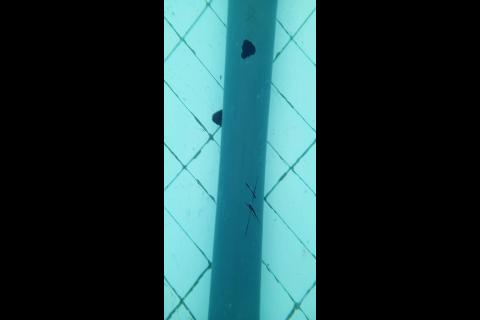kebocoran: (240, 37, 256, 61)
keretakan: (244, 178, 262, 239)
